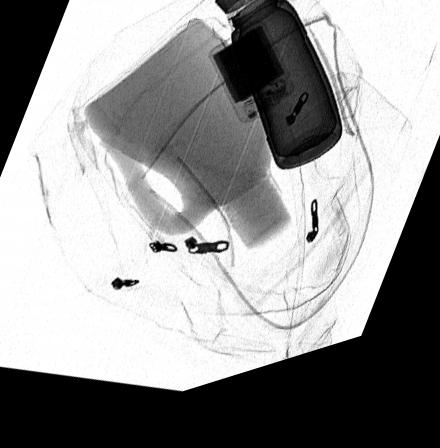Powerbank: (208, 36, 298, 138)
